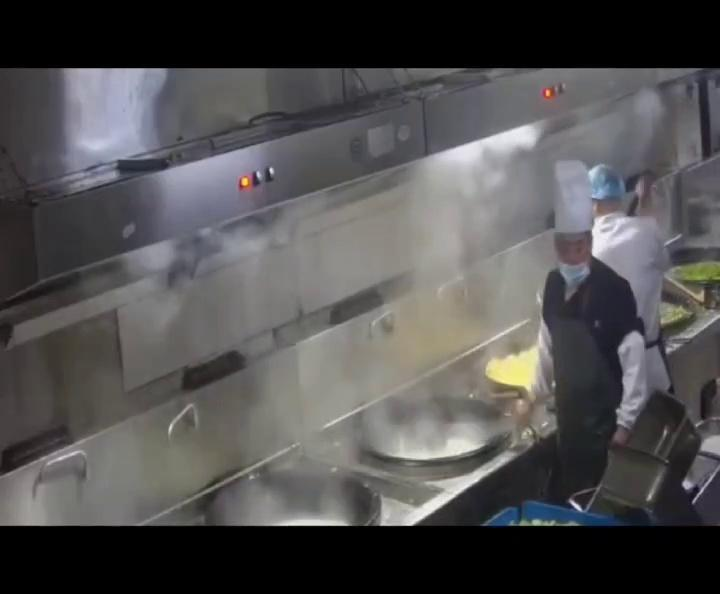gloves: (590, 164, 624, 201)
hairnet: (560, 242, 592, 290)
